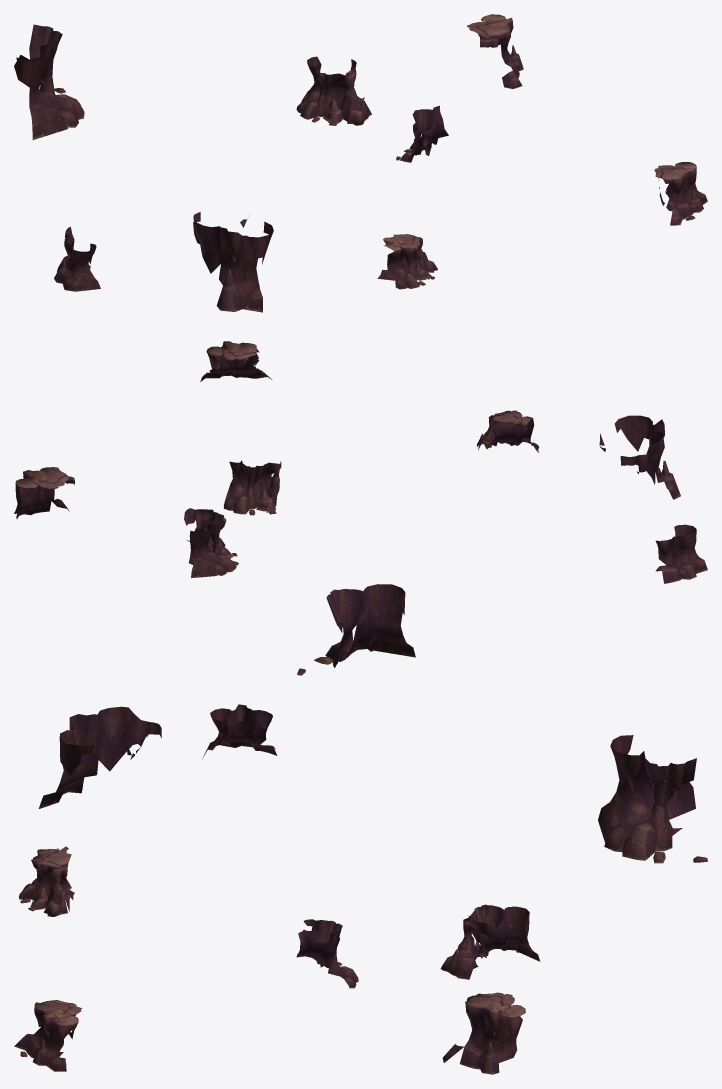
The model's file is area2_shiqiang_01.FBX.
The picture shows the model from 3 angles, top to bottom: view 1: azimuth 30°, elevation 25°; view 2: azimuth 150°, elevation 25°; view 3: azimuth 270°, elevation 25°; orthographic projection. The views are drawn at different scales.
Visible parts, largest first — view 1: area2_shiqiang_01; view 2: area2_shiqiang_01; view 3: area2_shiqiang_01.
Boxes of the visible parts, box(x1,y1,x2,y2) form: area2_shiqiang_01: box(14, 14, 707, 312); area2_shiqiang_01: box(14, 341, 707, 675); area2_shiqiang_01: box(14, 704, 707, 1074).
Size of the model in its own units: 9223 by 1216 by 8248.
